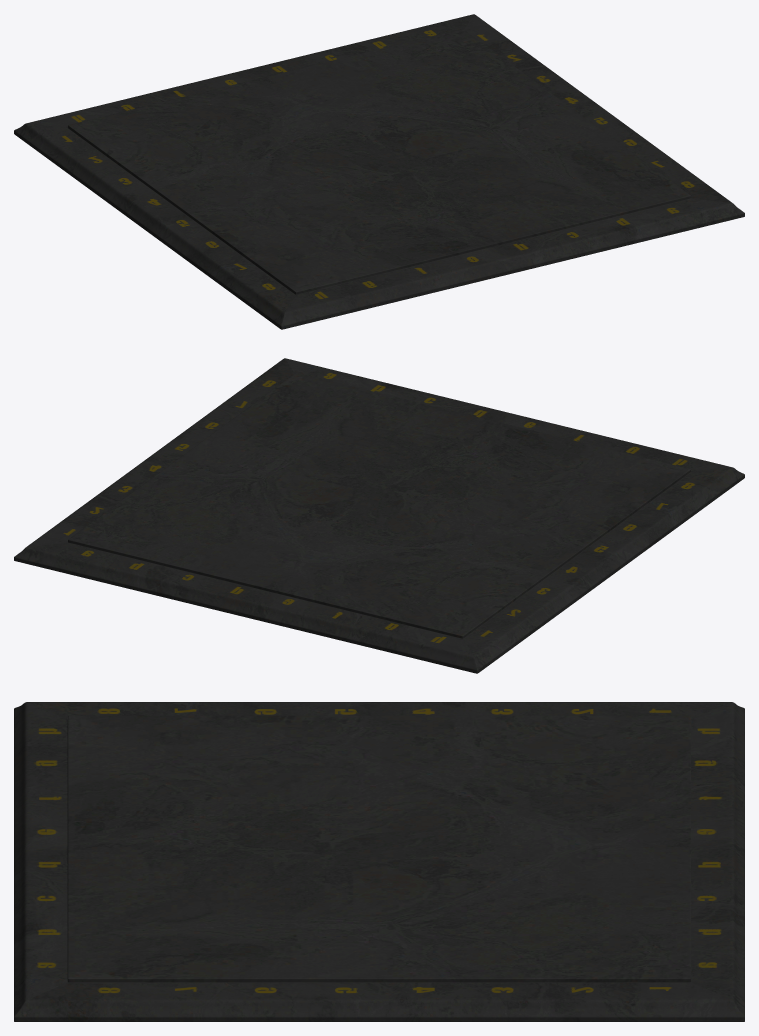
Rendered from chess-board.obj.
The picture shows the model from 3 angles, top to bottom: view 1: azimuth 30°, elevation 25°; view 2: azimuth 150°, elevation 25°; view 3: azimuth 270°, elevation 25°; orthographic projection. The views are drawn at different scales.
Visible parts, largest first — view 1: 12951_Stone_Chess_Board_v1_L3; view 2: 12951_Stone_Chess_Board_v1_L3; view 3: 12951_Stone_Chess_Board_v1_L3.
Boxes of the visible parts, x1=… form: 12951_Stone_Chess_Board_v1_L3: x1=14, y1=14, x2=744, y2=329; 12951_Stone_Chess_Board_v1_L3: x1=14, y1=358, x2=744, y2=673; 12951_Stone_Chess_Board_v1_L3: x1=14, y1=702, x2=744, y2=1021.
Bounding box in the file's own units: 1.19 × 0.037 × 1.19.
